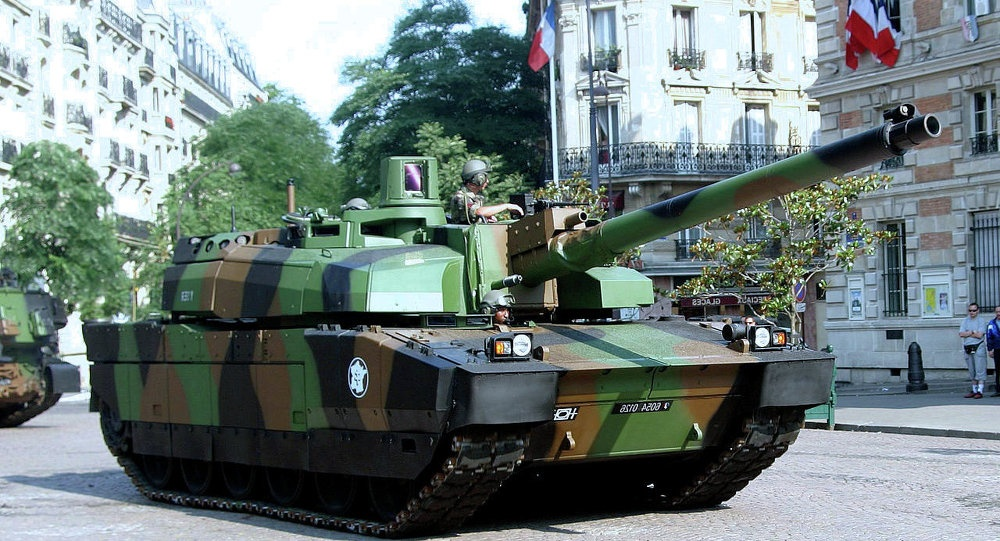license_plate: (610, 399, 678, 419)
